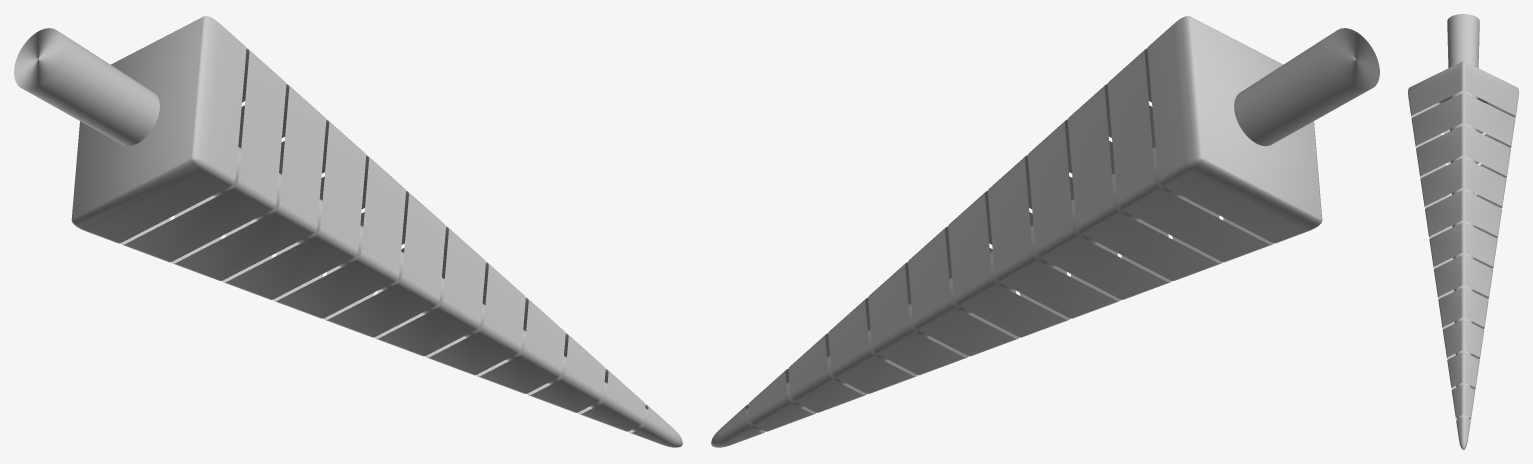
File: hw_espada.obj
3 renders of one model, left to right at view 1: azimuth 30°, elevation 25°; view 2: azimuth 150°, elevation 25°; view 3: azimuth 270°, elevation 25°, orthographic. The views are drawn at different scales.
Visible parts, largest first — view 1: Espada_Material.005; view 2: Espada_Material.005; view 3: Espada_Material.005.
Part boxes in pixels (x1,y1,x2,y2): Espada_Material.005: [14, 16, 682, 447]; Espada_Material.005: [711, 16, 1379, 447]; Espada_Material.005: [1408, 14, 1518, 449].
Bounding box in the file's own units: 1.49 × 1.22 × 0.4317.
